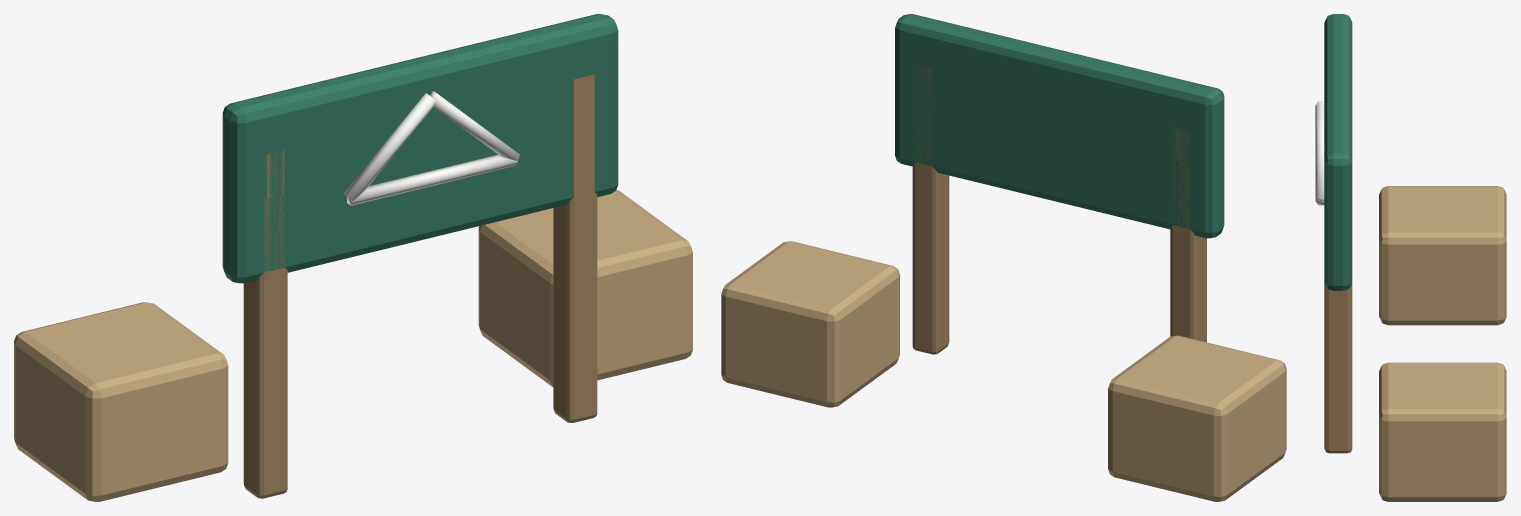
File: camp.glb
3 renders of one model, left to right at view 1: azimuth 30°, elevation 25°; view 2: azimuth 150°, elevation 25°; view 3: azimuth 270°, elevation 25°, orthographic. The views are drawn at different scales.
Visible parts, largest first — view 1: tyaga-camp-surface; view 2: tyaga-camp-surface; view 3: tyaga-camp-surface.
Boxes of the visible parts, box(x1,y1,x2,y2) form: tyaga-camp-surface: box(14, 14, 692, 501); tyaga-camp-surface: box(721, 14, 1286, 501); tyaga-camp-surface: box(1315, 14, 1506, 501).
Size of the model in its own units: 2.35 by 1.45 by 0.825.
